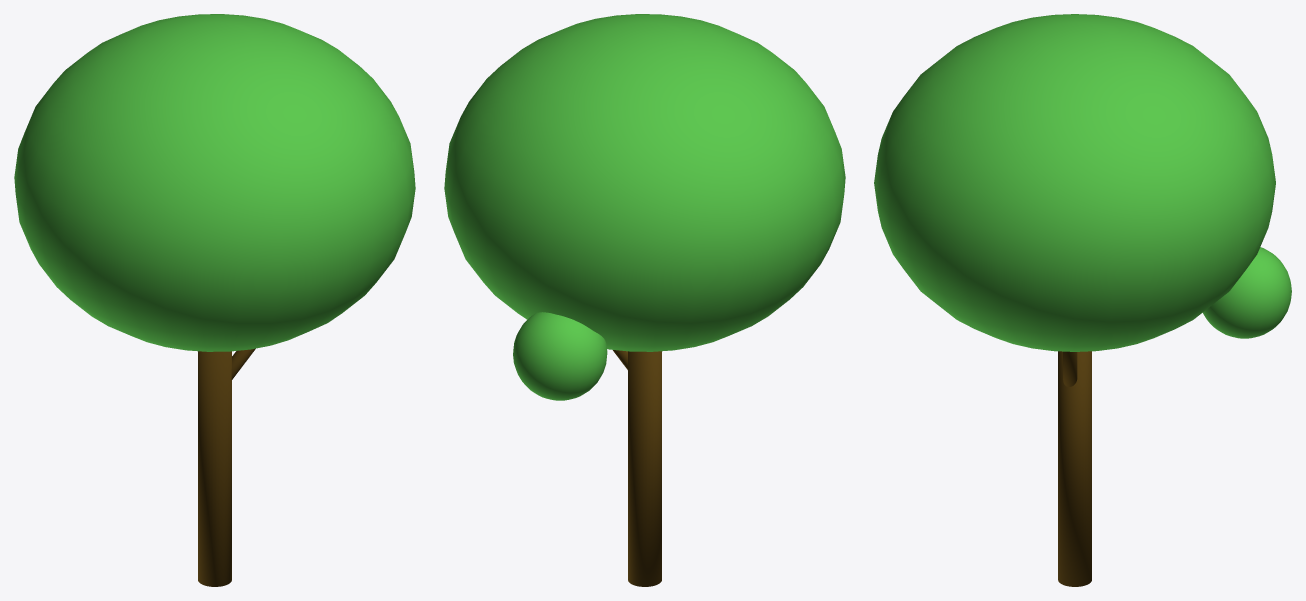
File: tree_8.glb
3 renders of one model, left to right at view 1: azimuth 30°, elevation 25°; view 2: azimuth 150°, elevation 25°; view 3: azimuth 270°, elevation 25°, orthographic.
Visible parts, largest first — view 1: Circle.001; view 2: Circle.001; view 3: Circle.001.
Part boxes in pixels (x1=…): Circle.001: x1=14, y1=14, x2=415, y2=586; Circle.001: x1=444, y1=14, x2=845, y2=586; Circle.001: x1=874, y1=14, x2=1291, y2=586.
Size of the model in its own units: 2.76 by 4.11 by 2.86.
